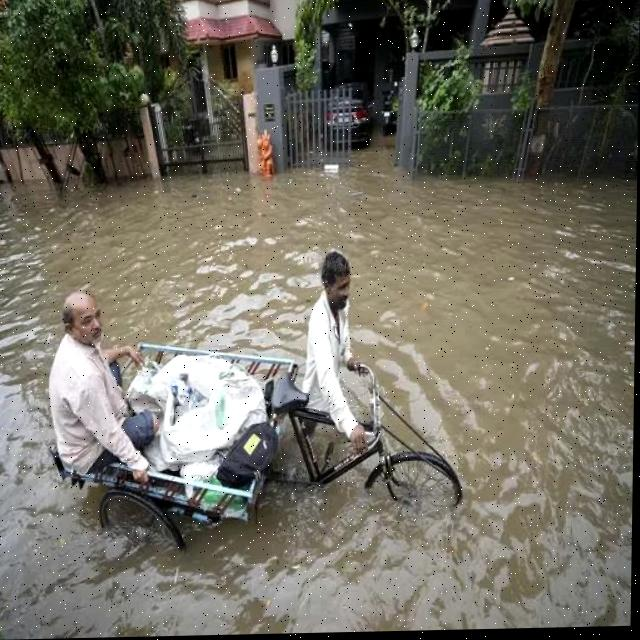civilian: (31, 270, 176, 496), (297, 234, 384, 465)
